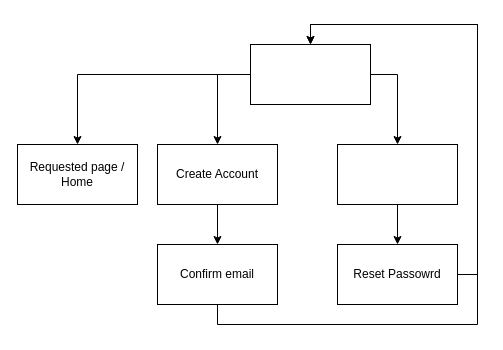
The diagram is 503 pixels wide and 350 high, and some of its shapes have lost their labels. The shapes that lost their labels are listed below. From the top down, each one's box as (x1, y1, x2, y2) in pixels, then its label:
(250, 44, 370, 104): Login
(336, 144, 458, 204): Request Passoword reset
